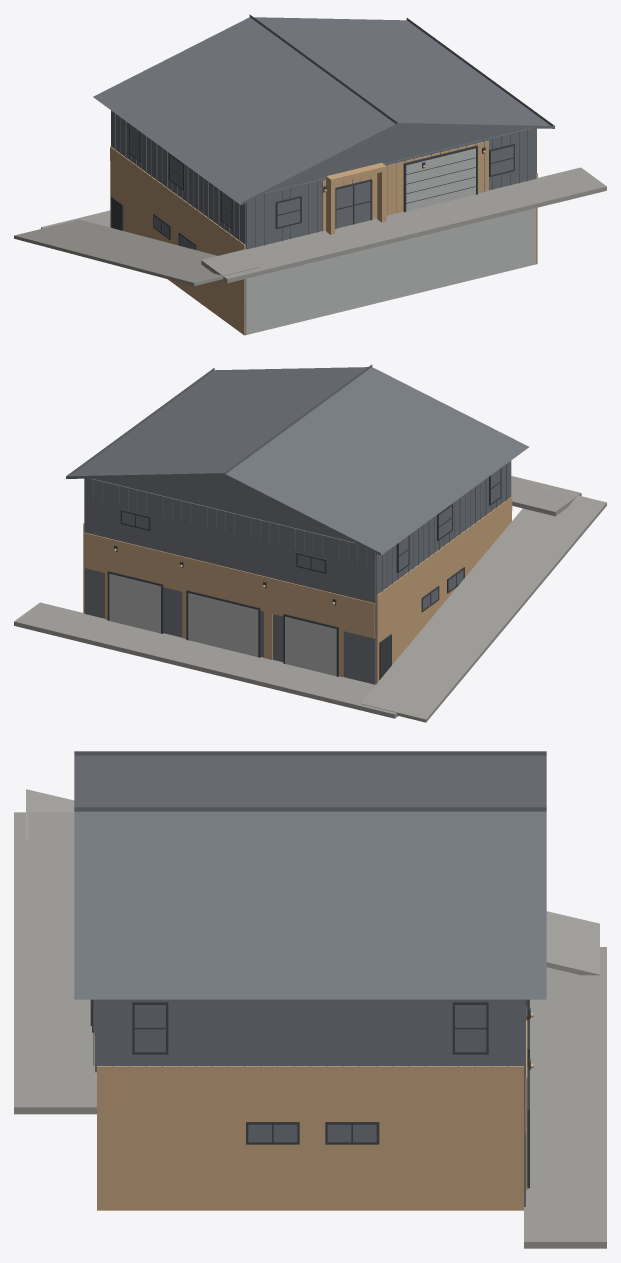
File: Walid_Two_Tone_Standalone_Model_Oreo.glb
The picture shows the model from 3 angles, top to bottom: view 1: azimuth 30°, elevation 25°; view 2: azimuth 150°, elevation 25°; view 3: azimuth 270°, elevation 25°; orthographic projection. The views are drawn at different scales.
Parts seen in each view (by area): view 1: darkslategray, gray, dimgray, sienna, black; view 2: darkslategray, dimgray, sienna, gray, black; view 3: darkslategray, sienna, dimgray, black.
Part boxes in pixels (x1=…): darkslategray: x1=93, y1=14, x2=554, y2=335; gray: x1=246, y1=148, x2=535, y2=334; dimgray: x1=14, y1=167, x2=606, y2=285; sienna: x1=110, y1=140, x2=537, y2=335; black: x1=111, y1=124, x2=514, y2=250; darkslategray: x1=66, y1=364, x2=528, y2=684; dimgray: x1=14, y1=476, x2=606, y2=722; sienna: x1=83, y1=497, x2=512, y2=683; gray: x1=109, y1=573, x2=336, y2=676; black: x1=107, y1=468, x2=501, y2=679; darkslategray: x1=74, y1=751, x2=546, y2=1206; sienna: x1=94, y1=1000, x2=527, y2=1210; dimgray: x1=14, y1=789, x2=606, y2=1248; black: x1=90, y1=999, x2=530, y2=1188.
Size of the model in its own units: 21.77 by 9.4 by 17.18.
